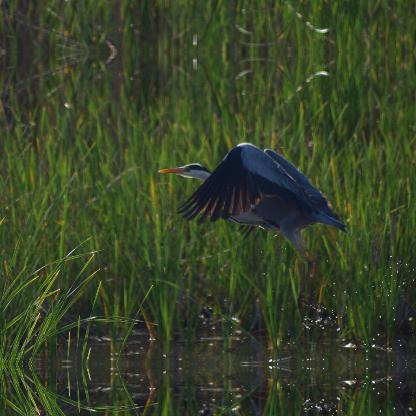Bird: (162, 152, 346, 286)
